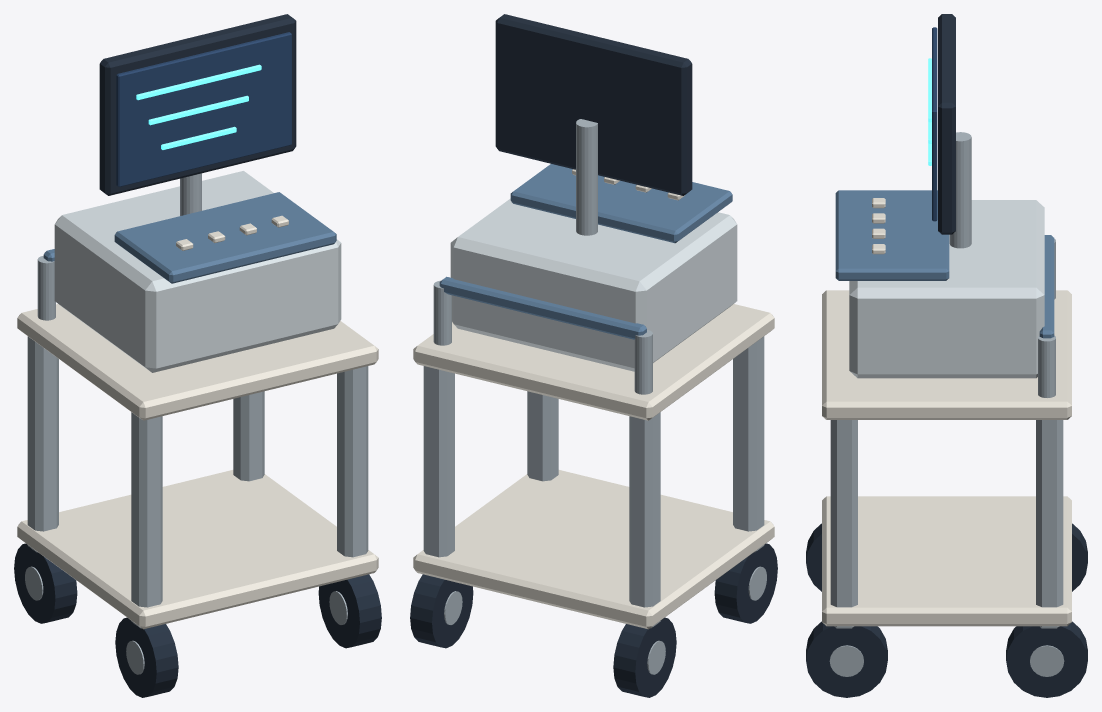
Rendered from medical_04.glb.
3 renders of one model, left to right at view 1: azimuth 30°, elevation 25°; view 2: azimuth 150°, elevation 25°; view 3: azimuth 270°, elevation 25°, orthographic.
Visible parts, largest first — view 1: Shelf (×2), InstrumentBody, Leg (×4), Screen, InputPanel, Wheel (×3), MonitorFrame, DisplayLine (×2), HandlePost, DisplayMast; view 2: Shelf (×2), InstrumentBody, MonitorFrame, Leg (×4), Wheel (×3), InputPanel, PushHandle, DisplayMast, HandlePost (×2); view 3: Shelf (×2), InstrumentBody, Leg (×2), Wheel (×4), InputPanel, MonitorFrame, DisplayMast, WheelHub (×2), PushHandle, Screen, HandlePost.
Part boxes in pixels (x1,y1,x2,y2): Shelf (×2): [17, 304, 378, 629]; InstrumentBody: [54, 171, 341, 372]; Leg (×4): [27, 336, 368, 628]; Screen: [116, 32, 291, 186]; InputPanel: [114, 192, 336, 283]; Wheel (×3): [14, 543, 381, 697]; MonitorFrame: [99, 14, 296, 195]; DisplayLine (×2): [136, 64, 261, 125]; HandlePost: [37, 256, 55, 320]; DisplayMast: [180, 173, 201, 215]; Shelf (×2): [413, 304, 774, 629]; InstrumentBody: [450, 198, 737, 371]; MonitorFrame: [495, 14, 692, 195]; Leg (×4): [423, 336, 764, 628]; Wheel (×3): [410, 543, 777, 697]; InputPanel: [510, 164, 732, 243]; PushHandle: [439, 276, 646, 339]; DisplayMast: [576, 119, 597, 235]; HandlePost (×2): [433, 280, 652, 394]; Shelf (×2): [822, 290, 1071, 626]; InstrumentBody: [849, 200, 1044, 378]; Leg (×2): [830, 420, 1063, 628]; Wheel (×4): [806, 523, 1087, 697]; InputPanel: [835, 190, 949, 280]; MonitorFrame: [938, 14, 955, 234]; DisplayMast: [949, 132, 971, 248]; WheelHub (×2): [829, 645, 1064, 676]; PushHandle: [1039, 235, 1054, 338]; Screen: [932, 27, 937, 221]; HandlePost: [1038, 335, 1055, 397].
Bounding box in the file's own units: 0.6 × 1.42 × 0.62.
